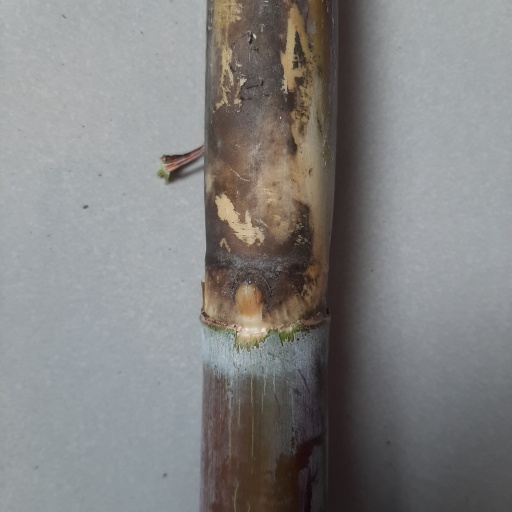Bud: (229, 280, 263, 318)
